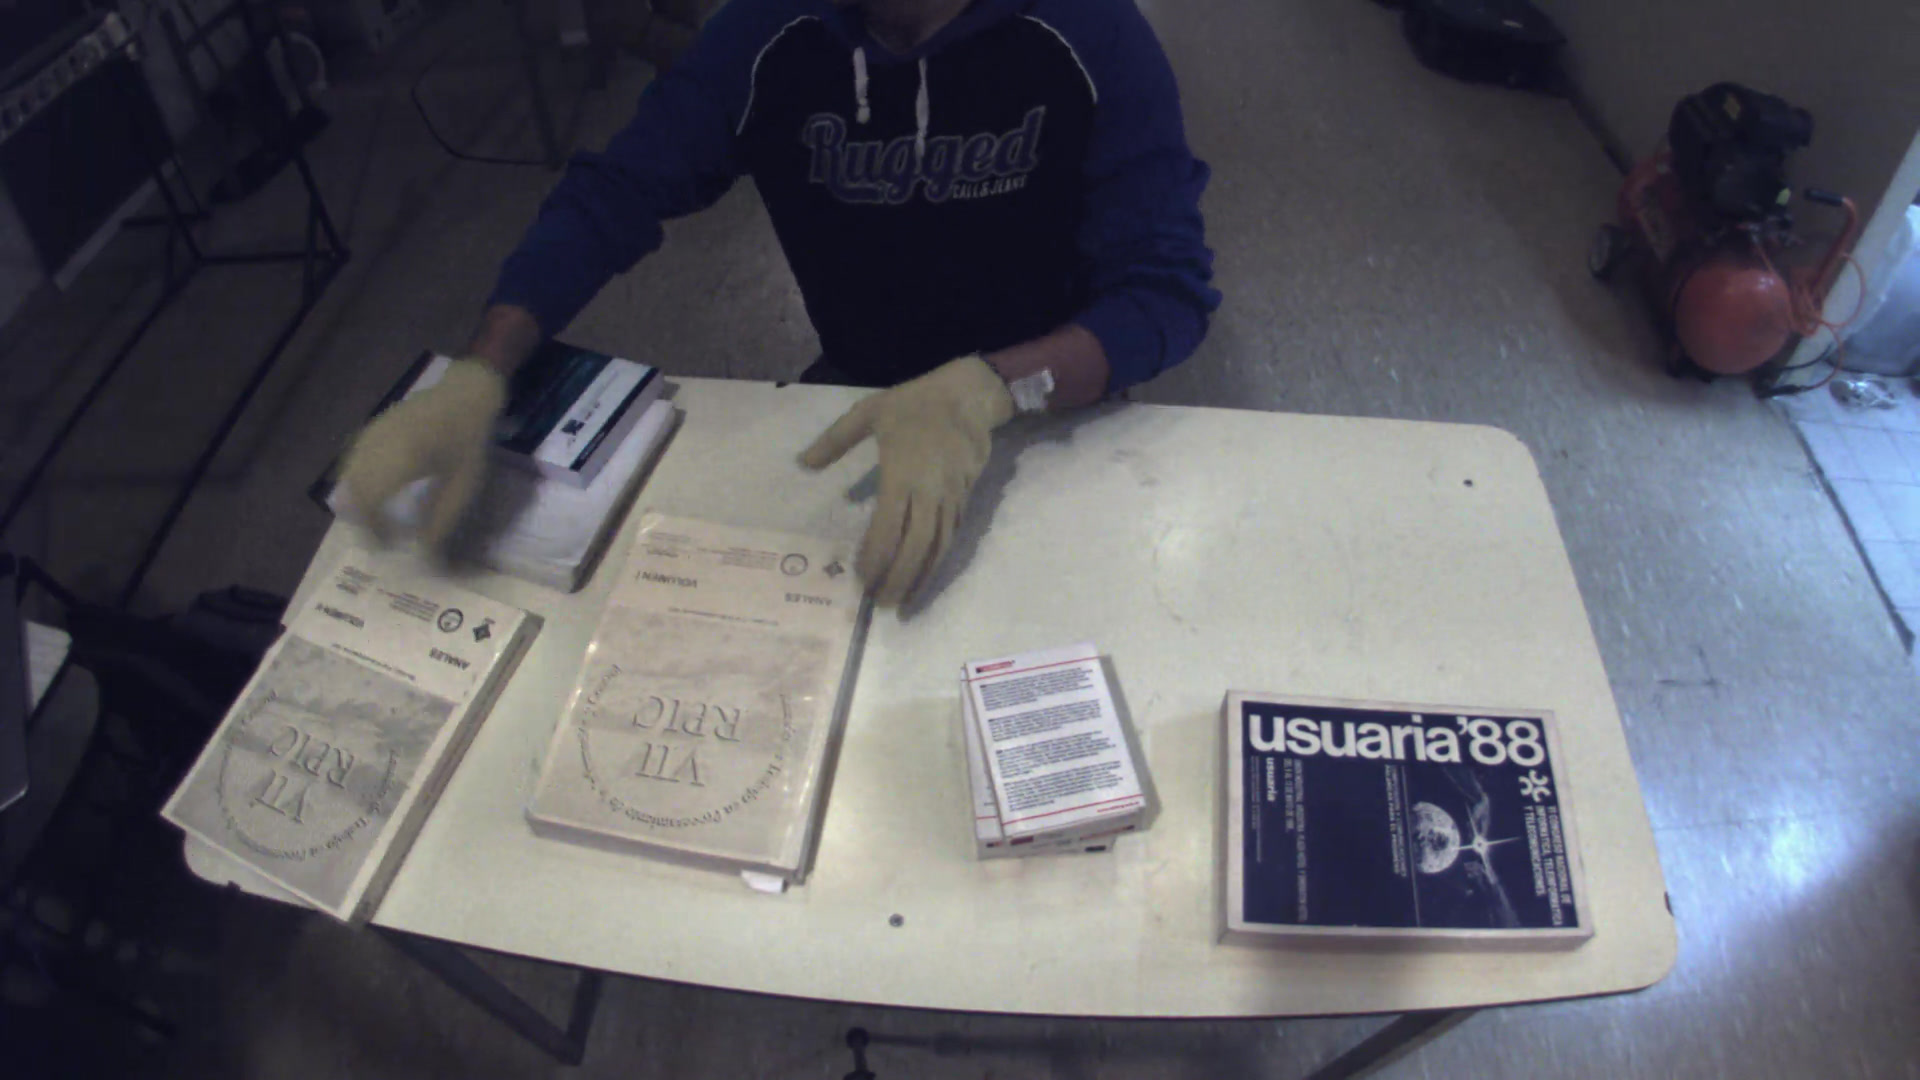hand: (789, 340, 1040, 618), (323, 349, 510, 559)
